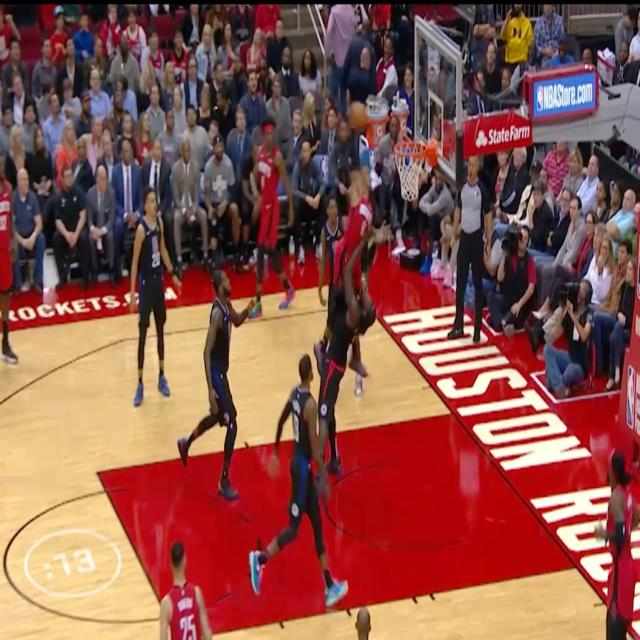Foul: (359, 176, 402, 370)
